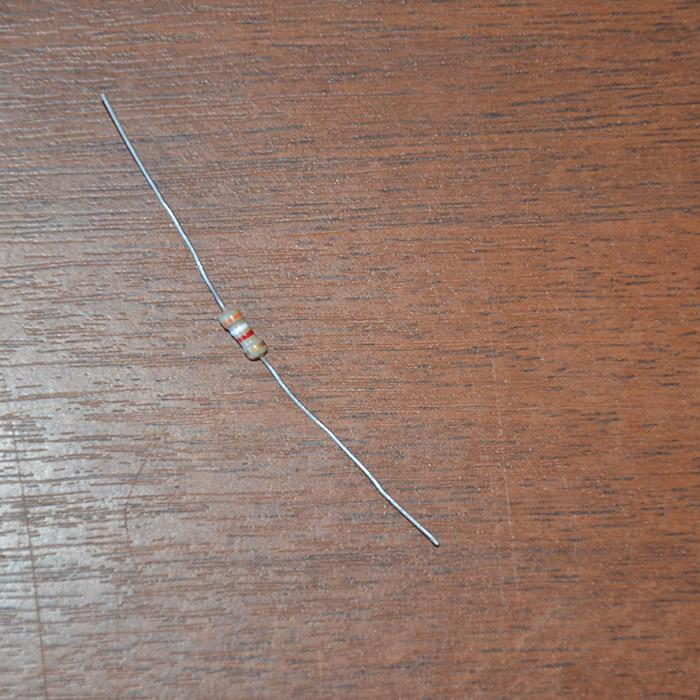resistor: (217, 306, 268, 361)
